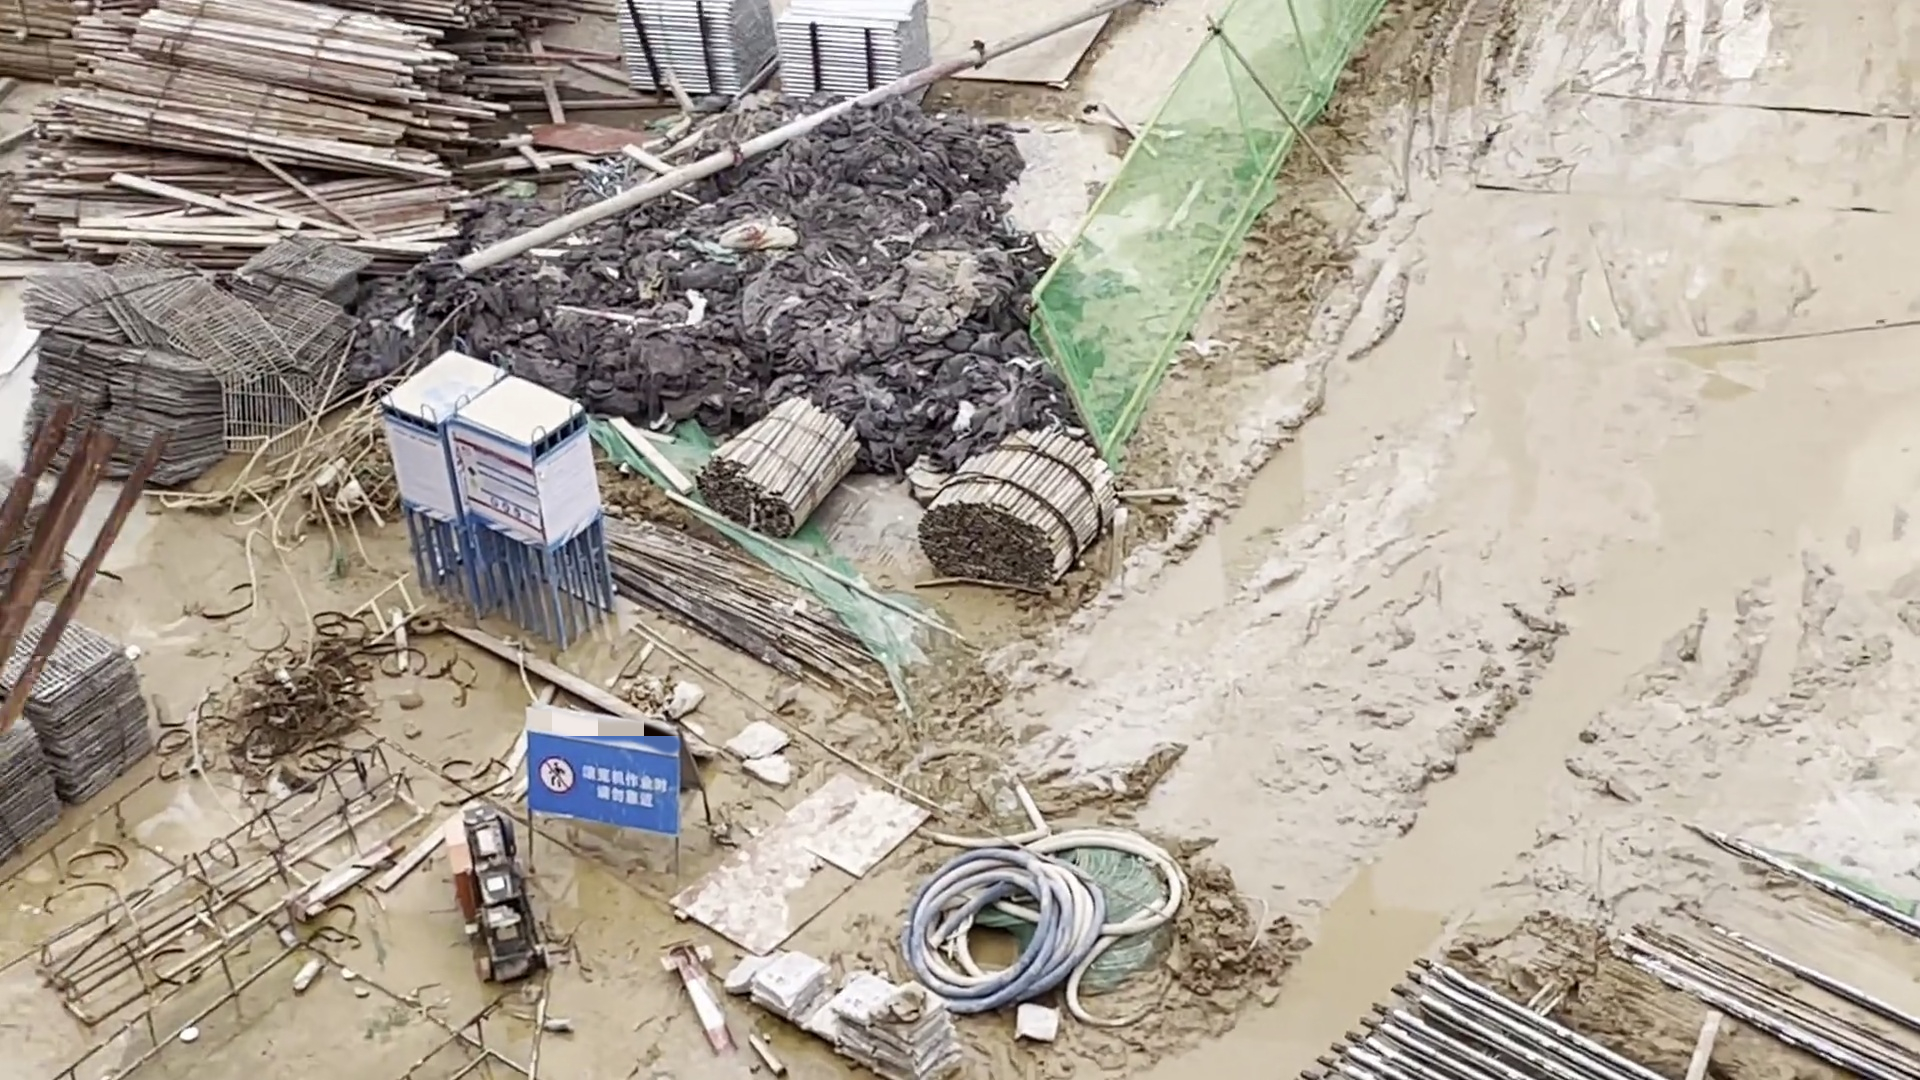scaffold: (773, 4, 936, 120), (611, 1, 773, 109)
slogan: (541, 742, 680, 831)
wood: (4, 4, 501, 265), (910, 430, 1125, 597), (695, 396, 855, 541)
